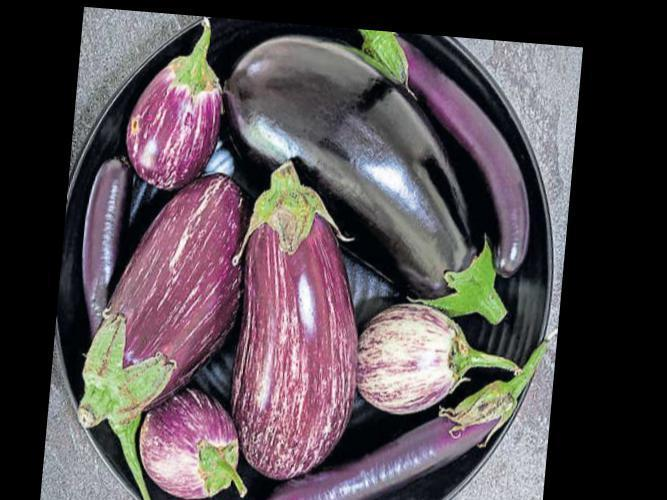eggplant: (77, 169, 272, 432), (240, 150, 368, 486), (128, 24, 244, 192), (358, 300, 501, 418), (145, 370, 253, 499)
